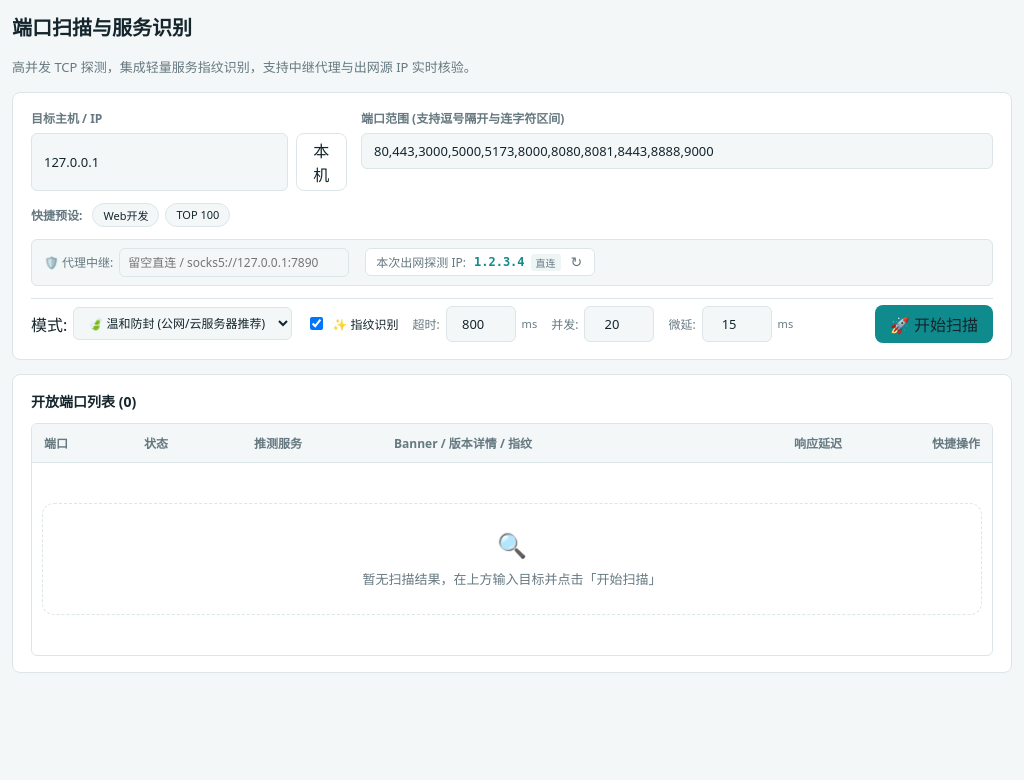
Test: PortScanView 扫描链路 › 流式进度事件：增量收录、去重、按端口升序
The image size is (1024, 780).
Click the button "🚀 开始扫描". click: coordinates (934, 324)
box: 875,305 -> 993,343
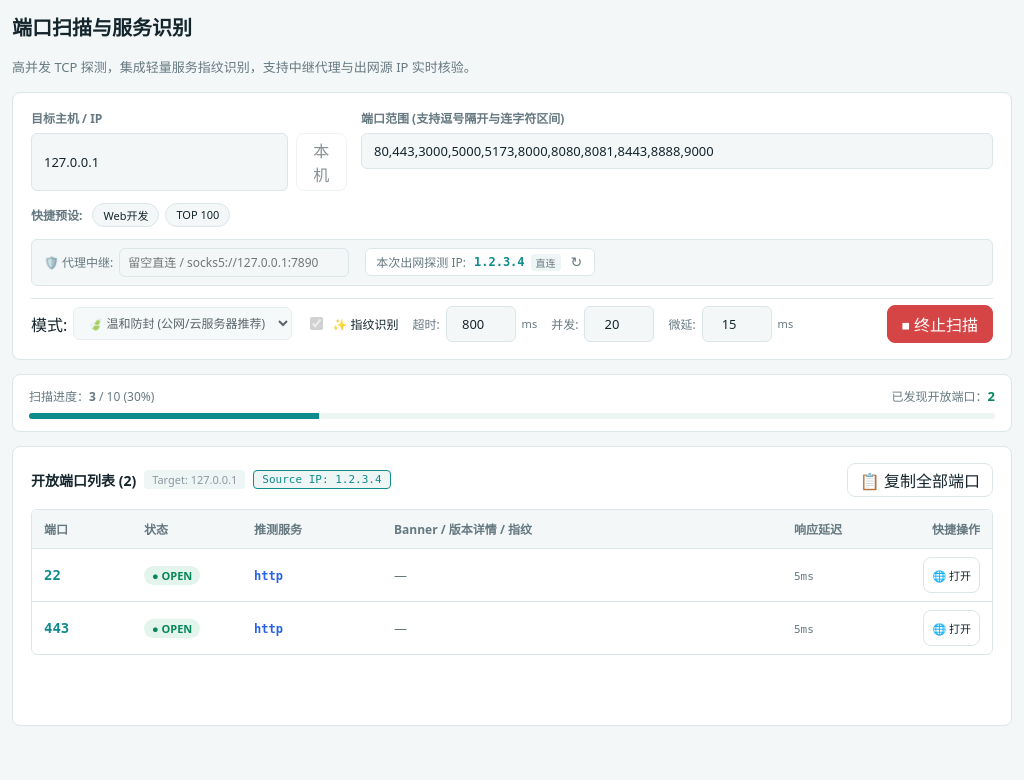
Now the row "22 ● OPEN http — 5ms 🌐 打开" is shown, box 32,548 -> 992,601
Now the element showing "扫描进度：3 / 10 (30%) 已发现开放端口：2" is shown, box 29,387 -> 995,405
